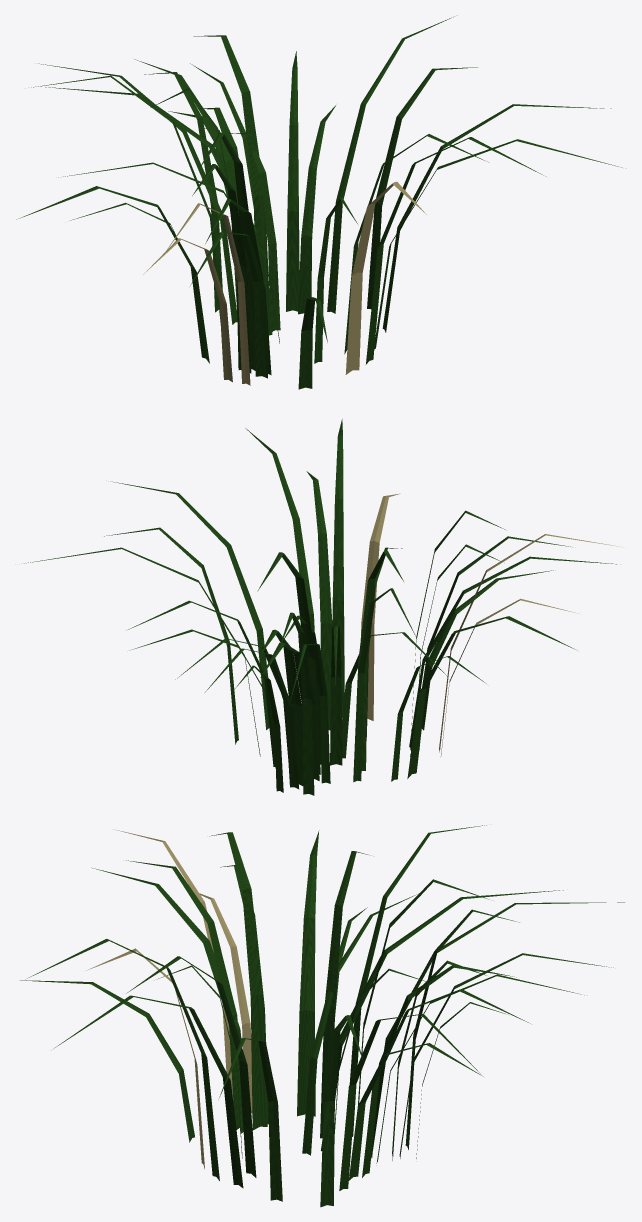
Rendered from Woodland_Grass_Tuft_01_LOD1.fbx.
3 renders of one model, top to bottom at view 1: azimuth 30°, elevation 25°; view 2: azimuth 150°, elevation 25°; view 3: azimuth 270°, elevation 25°, orthographic. The views are drawn at different scales.
Visible parts, largest first — view 1: Woodland_Grass_Tuft_01_LOD1_Foliage; view 2: Woodland_Grass_Tuft_01_LOD1_Foliage; view 3: Woodland_Grass_Tuft_01_LOD1_Foliage.
Boxes of the visible parts, box(x1,y1,x2,y2) form: Woodland_Grass_Tuft_01_LOD1_Foliage: box(16, 15, 622, 389); Woodland_Grass_Tuft_01_LOD1_Foliage: box(24, 419, 618, 795); Woodland_Grass_Tuft_01_LOD1_Foliage: box(20, 825, 624, 1207).
Size of the model in its own units: 78.68 by 35.73 by 71.82.
